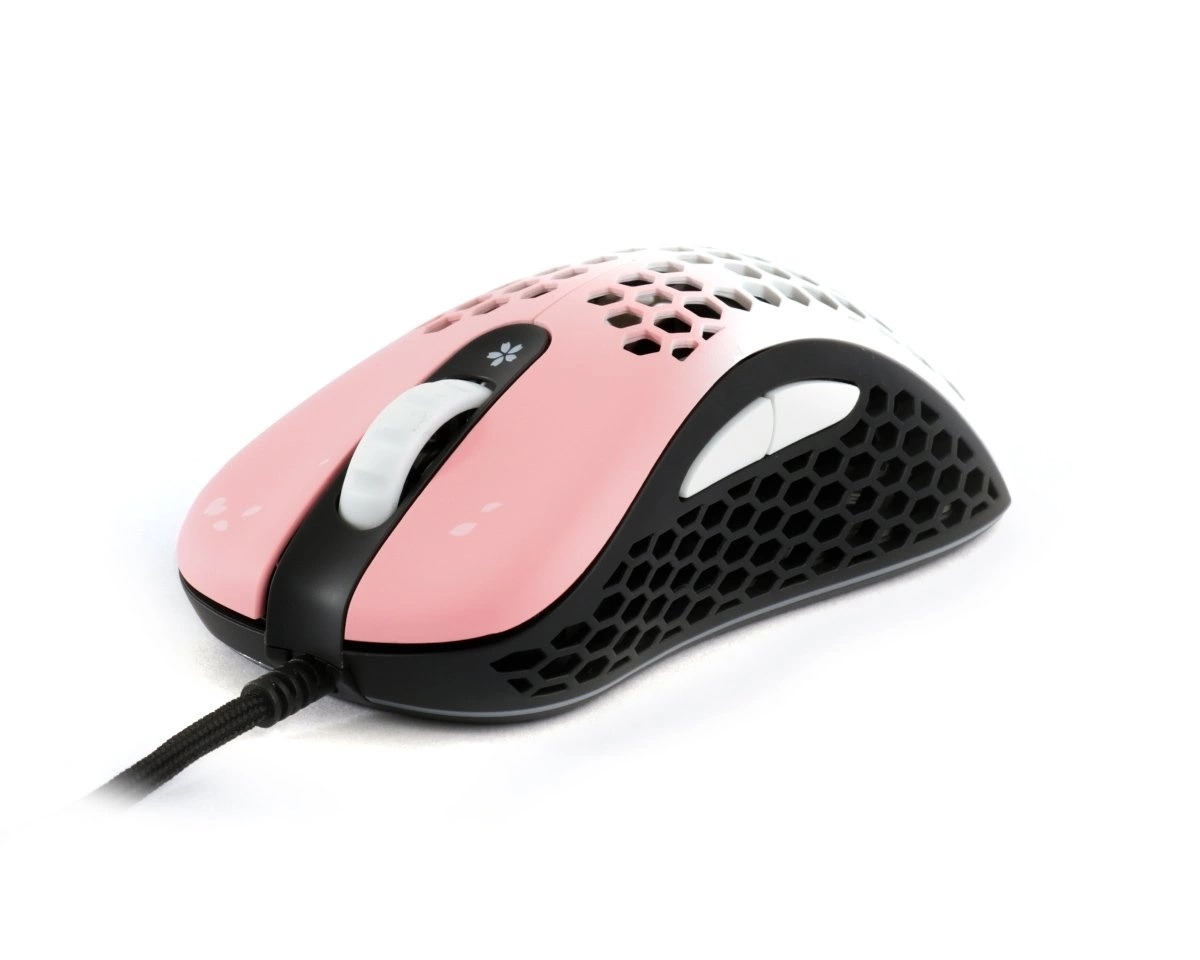mouse: (153, 229, 1026, 742)
